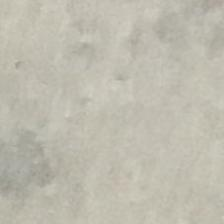Non_Crack: (6, 37, 204, 178)
